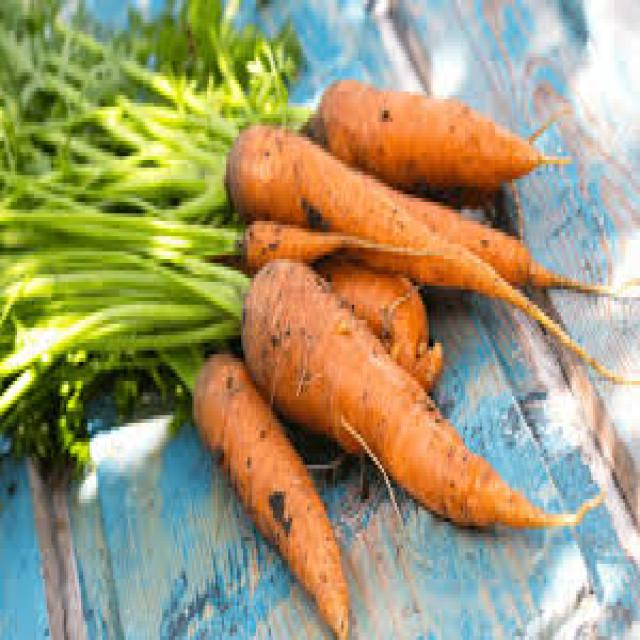Stale_Carrot: (244, 263, 589, 526)
